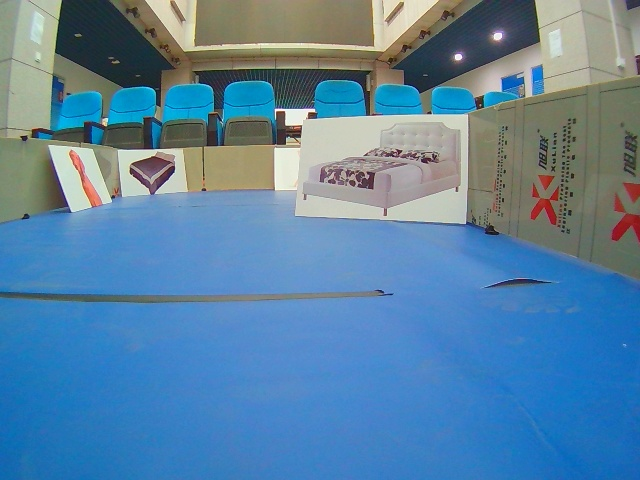bed: (303, 121, 466, 223), (119, 149, 187, 191)
pet: (48, 145, 113, 202)
